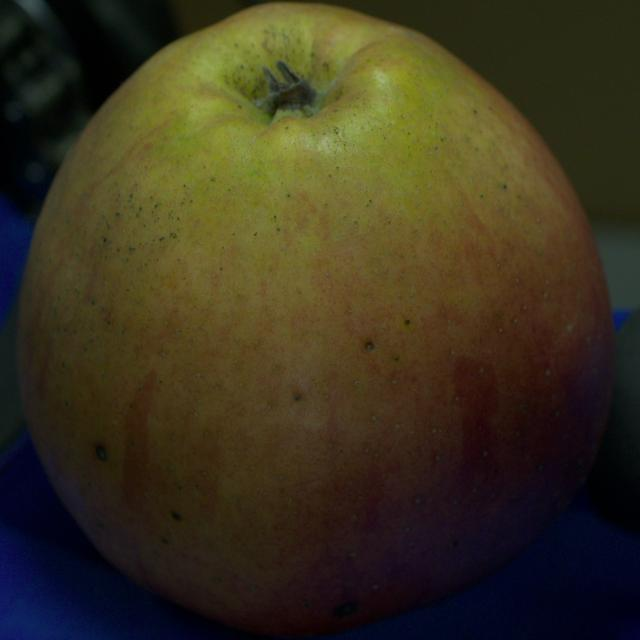apple: (16, 4, 614, 635)
pest: (333, 602, 359, 618), (96, 444, 107, 461), (365, 342, 374, 351), (172, 511, 181, 519)
